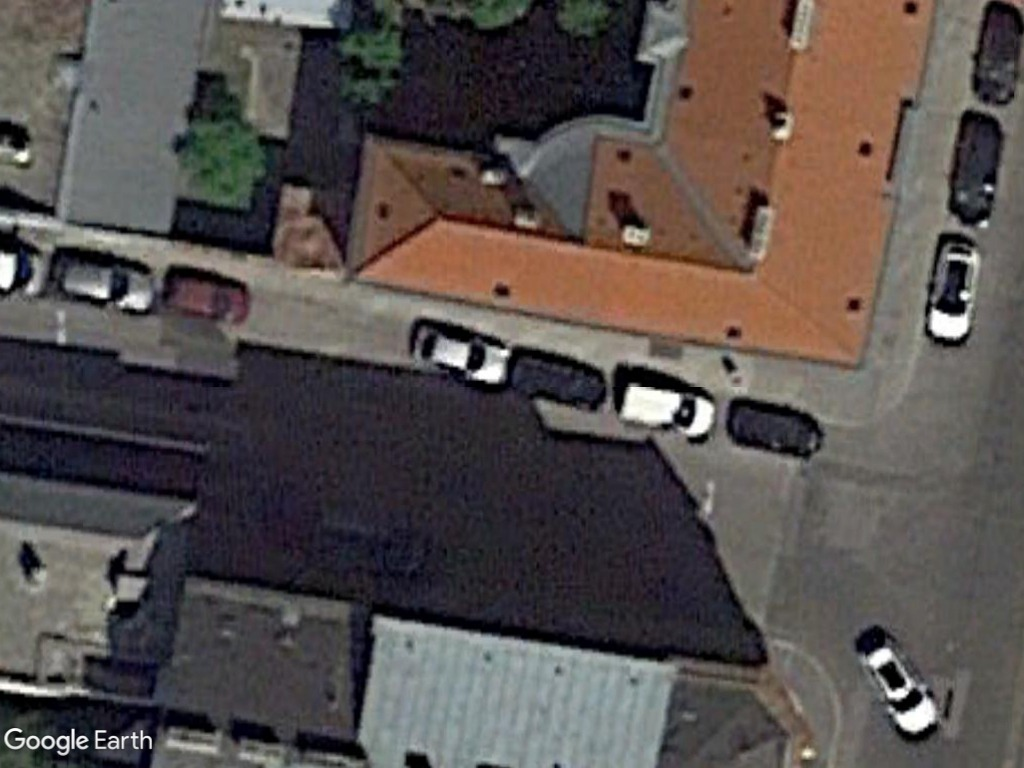car: (851, 630, 947, 749), (401, 317, 517, 389), (46, 247, 160, 318), (922, 233, 983, 352), (153, 263, 256, 330)
van: (613, 375, 720, 446)
